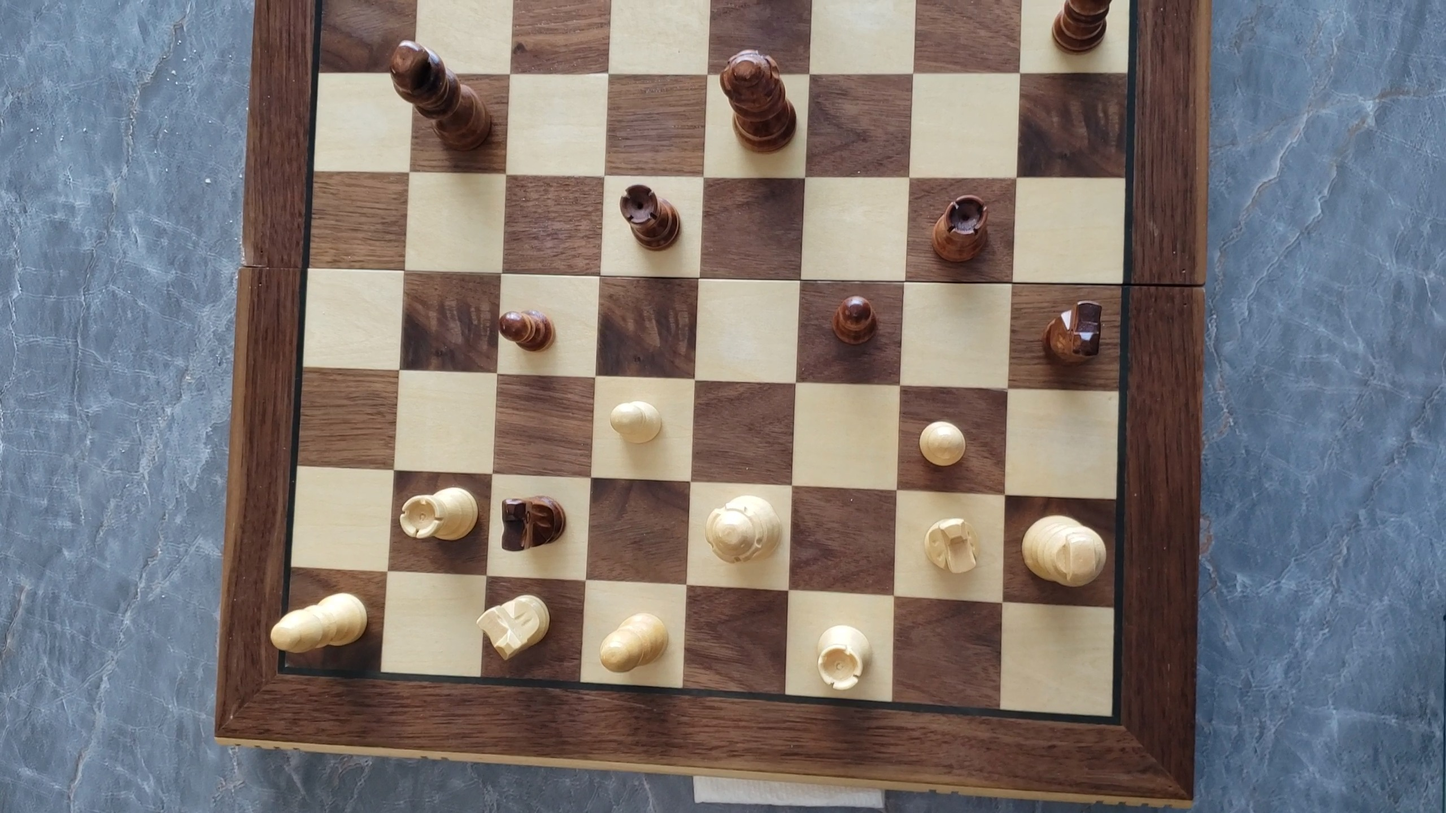black-king: (385, 40, 500, 156)
black-knight: (1032, 291, 1116, 367), (498, 492, 569, 552)
black-pawn: (496, 305, 556, 353), (829, 291, 879, 347)
black-queen: (717, 45, 799, 154)
black-rook: (617, 181, 683, 252), (929, 191, 992, 265)
white-bishop: (267, 589, 371, 655), (595, 608, 673, 675)
white-king: (1021, 511, 1117, 589)
white-knight: (472, 591, 554, 665), (920, 514, 982, 577)
white-pawn: (605, 396, 667, 447), (914, 416, 970, 470)
white-queen: (700, 489, 789, 574)
white-rook: (808, 617, 876, 701), (387, 486, 483, 545)
